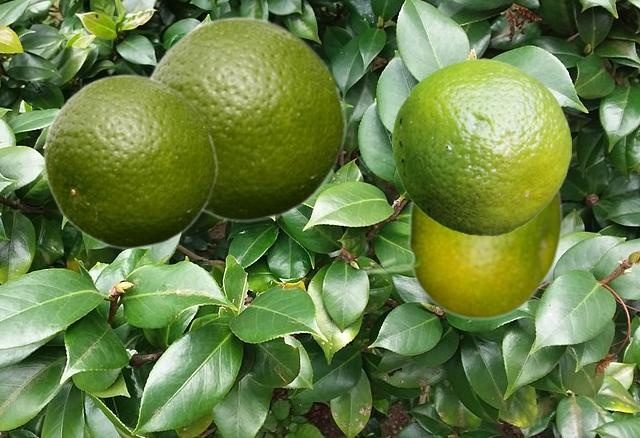calamansi: (148, 14, 346, 222), (392, 58, 570, 235), (43, 72, 217, 249), (356, 189, 562, 319)
